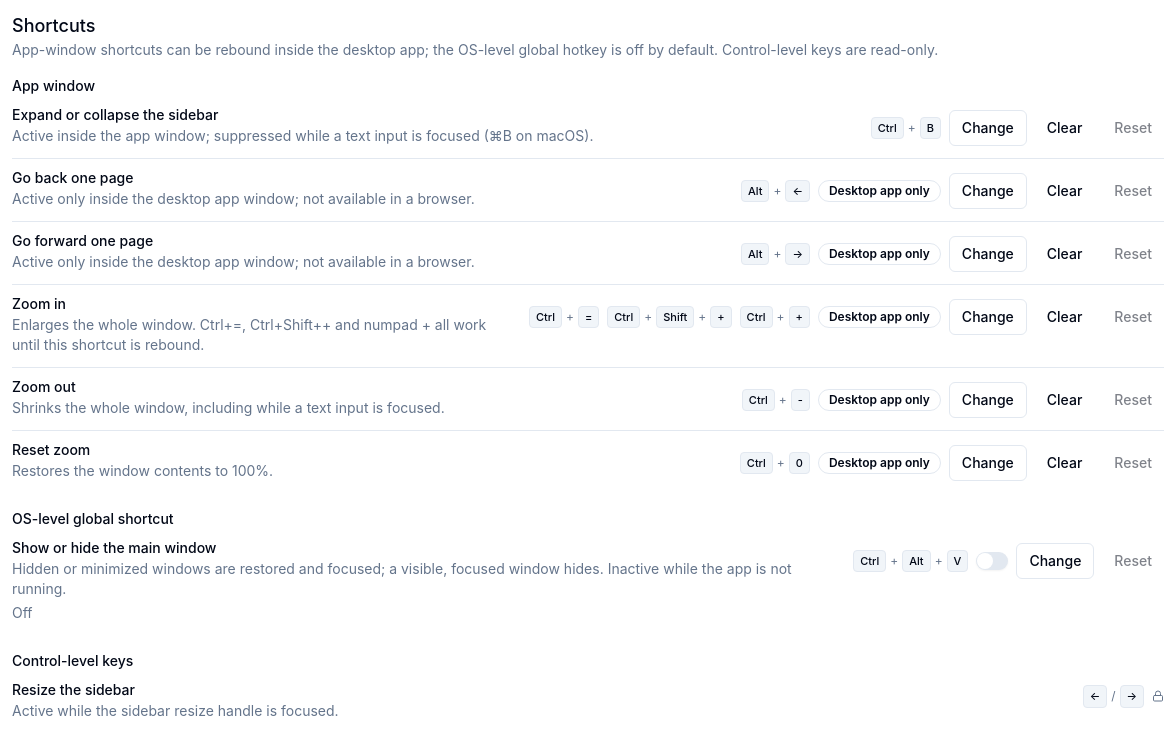
ShortcutsSettings — desktop bridge surface › the global switch enables the hotkey and reports registration
What coordinates should you click on to do the following:
click the switch with test id "shortcut-global-toggle"
I would click on:
 (992, 561)
Its box is [976,552,1008,570].
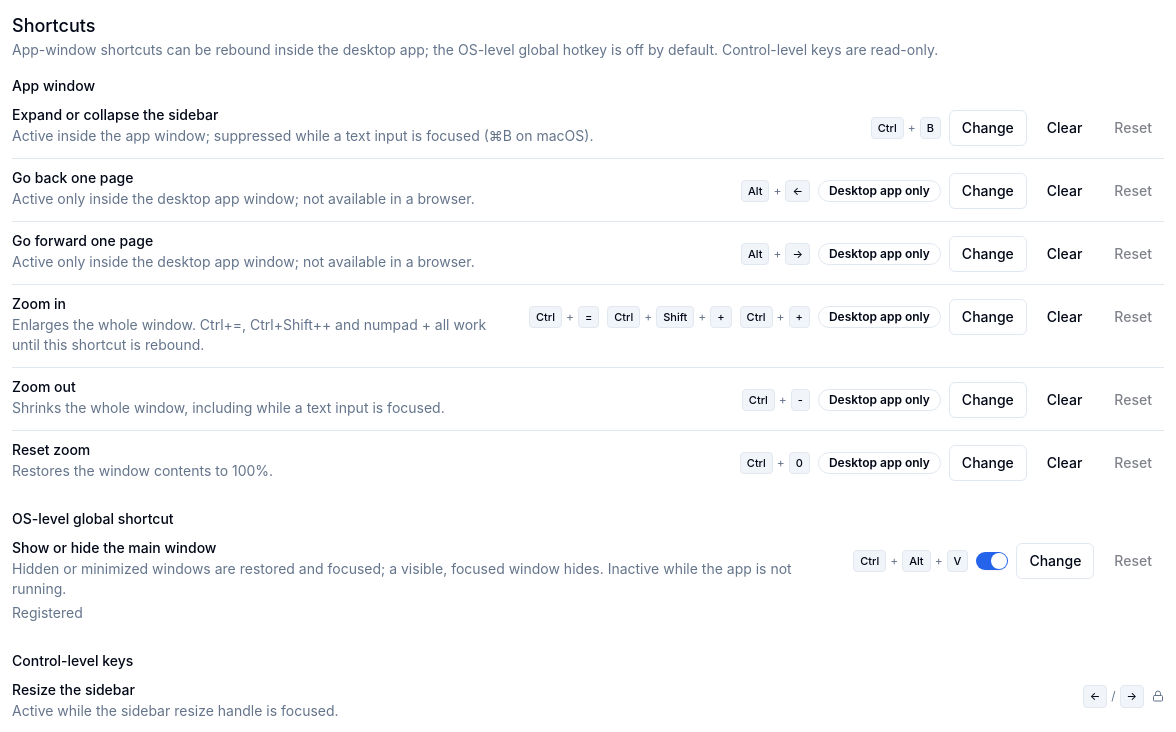
expect the text with test id "shortcut-global-status" reads "Registered": met, box [12,604,83,621]
